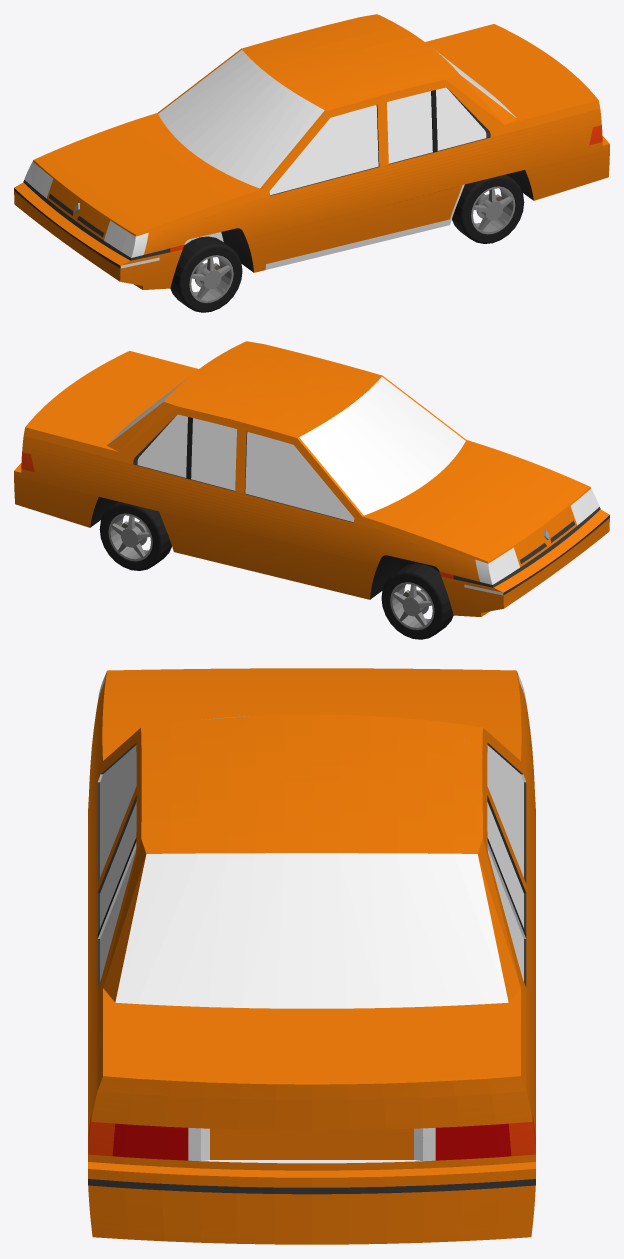
The model's file is protonSaga.obj.
3 renders of one model, top to bottom at view 1: azimuth 30°, elevation 25°; view 2: azimuth 150°, elevation 25°; view 3: azimuth 270°, elevation 25°, orthographic. The views are drawn at different scales.
Visible parts, largest first — view 1: body, Group_005, Group_009; view 2: body, Group_007, Group_011; view 3: body.
Boxes of the visible parts, bbox=[...] form: body: bbox=[14, 14, 609, 289]; Group_005: bbox=[170, 236, 242, 312]; Group_009: bbox=[452, 174, 524, 243]; body: bbox=[14, 341, 609, 616]; Group_007: bbox=[381, 563, 453, 639]; Group_011: bbox=[99, 501, 171, 570]; body: bbox=[88, 668, 535, 1244].
Size of the model in its own units: 242 by 77.4 by 93.87.
